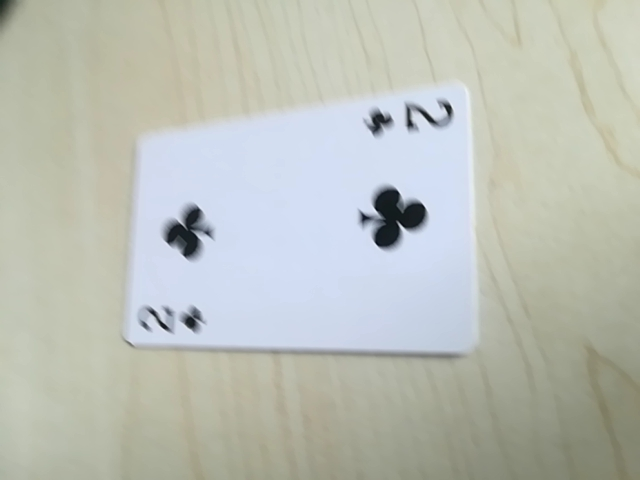mh 2: (357, 92, 463, 143), (133, 298, 210, 340)
